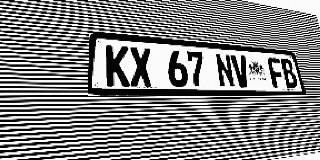6: (166, 50, 189, 87)
7: (185, 51, 207, 87)
B: (279, 58, 299, 88)
F: (267, 57, 286, 88)
K: (106, 45, 130, 86)
N: (214, 53, 236, 87)
V: (230, 55, 251, 87)
X: (129, 47, 153, 87)
